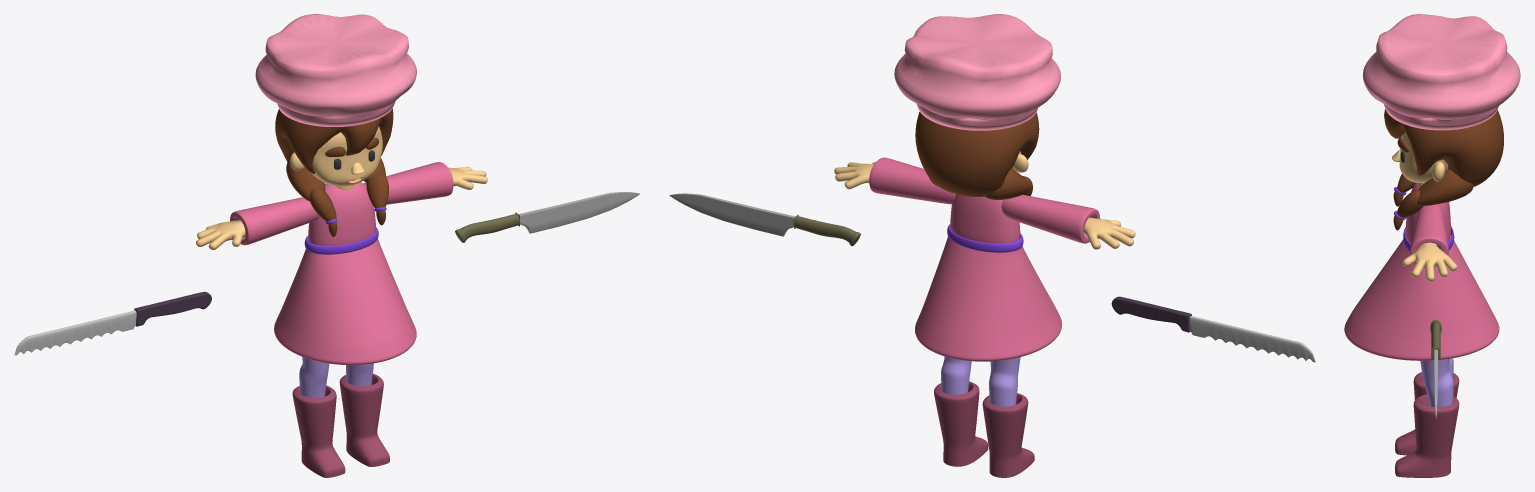
Rendered from Character B.fbx.
3 renders of one model, left to right at view 1: azimuth 30°, elevation 25°; view 2: azimuth 150°, elevation 25°; view 3: azimuth 270°, elevation 25°, orthographic. The views are drawn at different scales.
Visible parts, largest first — view 1: Cap, Frock, boots, Hair, Sleeves, Upperbody, Knife Blade, Face, bread knife, Hands.001, legs, bread knife handle (+2 smaller); view 2: Cap, Frock, Hair, boots, Sleeves, Upperbody, Knife Blade, legs, bread knife, Hands.001, bread knife handle, knife handle (+1 smaller); view 3: Cap, Frock, Hair, boots, Sleeves, legs, Hands.001, Face, Upperbody, knife handle, Knife Blade, ears.
Part boxes in pixels (box(x1,y1,x2,y2)): Cap: box(255, 14, 416, 126); Frock: box(274, 238, 416, 365); boots: box(292, 373, 389, 477); Hair: box(275, 108, 393, 236); Sleeves: box(230, 162, 453, 245); Upperbody: box(308, 182, 375, 245); Knife Blade: box(518, 192, 640, 233); Face: box(312, 126, 382, 186); bread knife: box(14, 310, 136, 355); Hands.001: box(196, 167, 487, 249); legs: box(299, 357, 373, 397); bread knife handle: box(134, 291, 211, 326); Cap: box(894, 14, 1060, 130); Frock: box(915, 236, 1061, 361); Hair: box(915, 112, 1039, 199); boots: box(934, 381, 1034, 477); Sleeves: box(869, 157, 1100, 243); Upperbody: box(950, 194, 1020, 243); Knife Blade: box(669, 193, 794, 236); legs: box(941, 356, 1020, 406); bread knife: box(1189, 316, 1315, 362); Hands.001: box(834, 161, 1135, 249); bread knife handle: box(1111, 296, 1191, 332); knife handle: box(793, 214, 860, 246); Cap: box(1363, 14, 1520, 130); Frock: box(1344, 235, 1499, 360); Hair: box(1384, 109, 1503, 230); boots: box(1395, 372, 1459, 477); Sleeves: box(1410, 204, 1448, 267); legs: box(1420, 358, 1453, 406); Hands.001: box(1402, 242, 1457, 281); Face: box(1399, 132, 1448, 182); Upperbody: box(1406, 182, 1450, 242); knife handle: box(1430, 320, 1441, 359); Knife Blade: box(1434, 349, 1437, 418); ears: box(1432, 161, 1444, 181).
Bounding box in the file's own units: 280 × 179 × 67.23.
